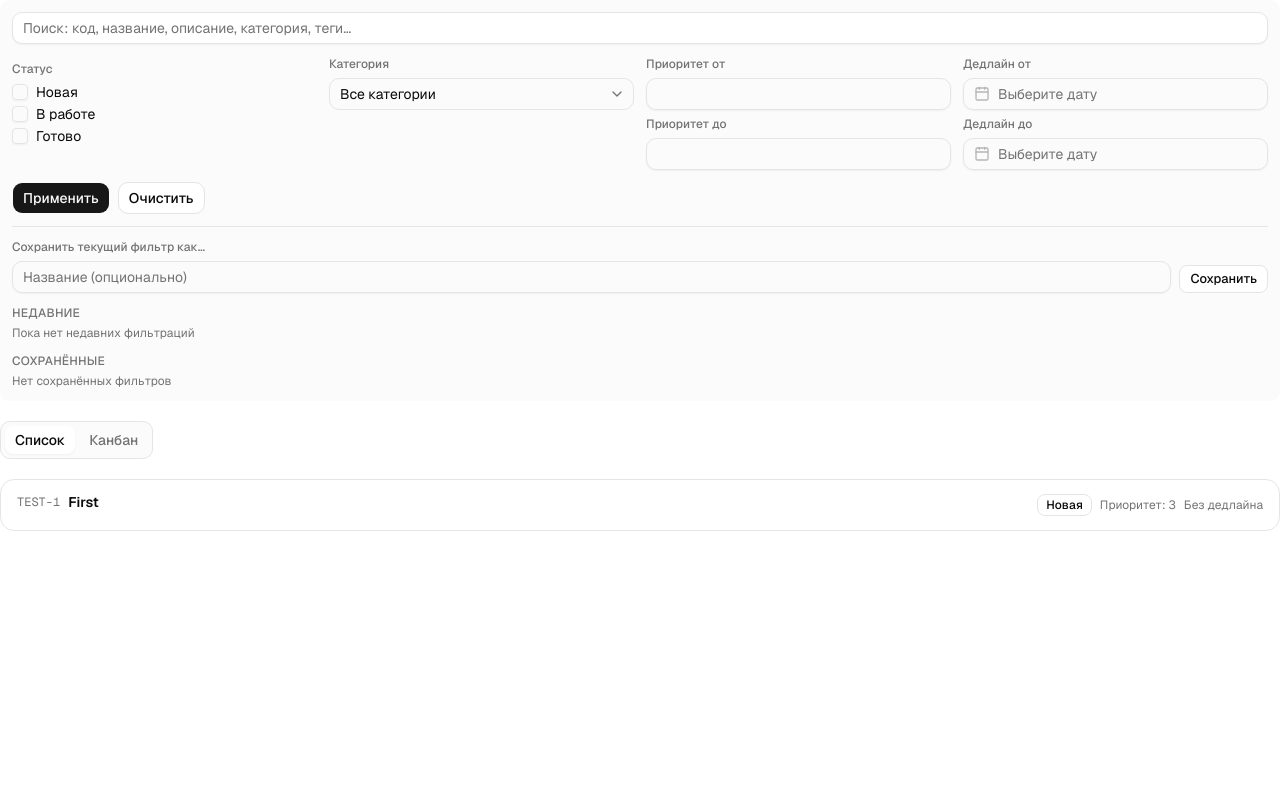
TaskList › closes the task detail dialog when close is clicked
The image size is (1280, 800).
Click the button with test id "task-row".
click(39, 502)  # box [1,480,1279,530]
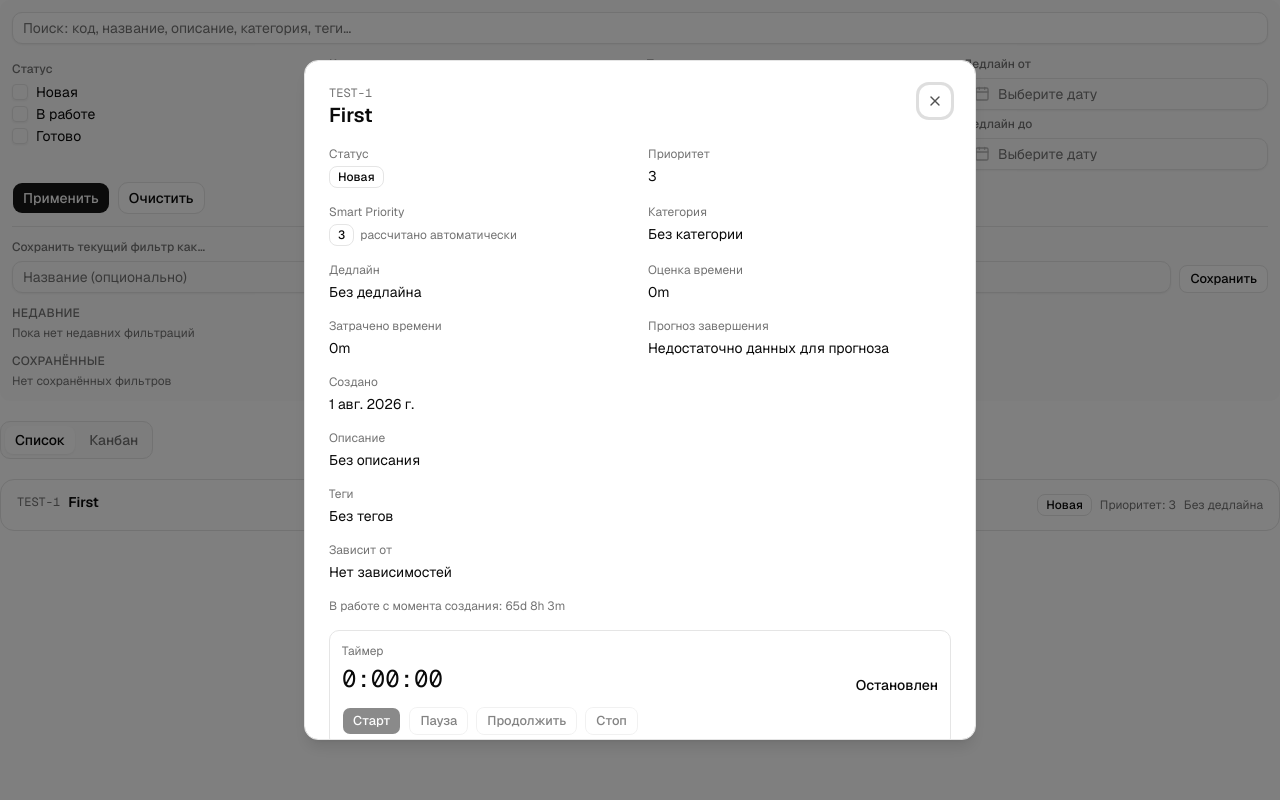
Check: the dialog is shown, box [304,60,976,740]
Click the button with test id "dialog-close".
click(935, 101)  # box [919,85,951,117]
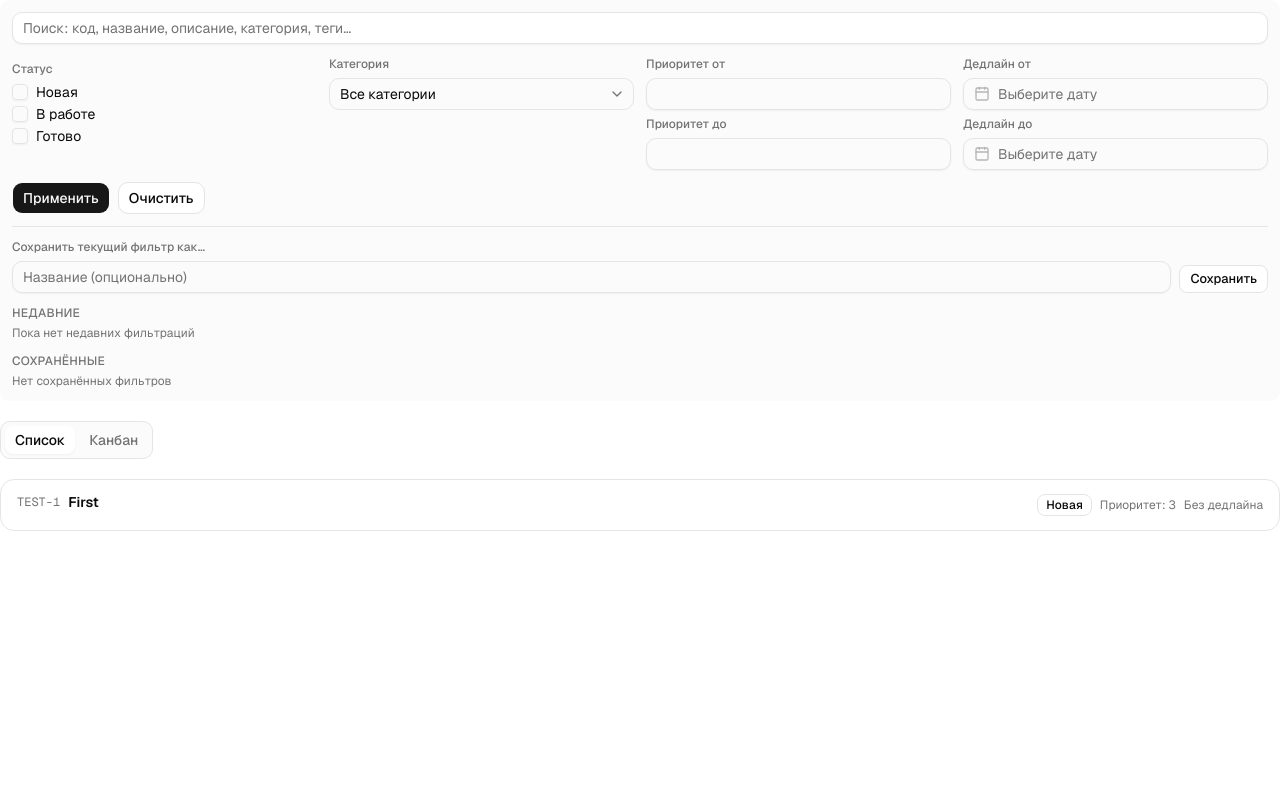
Check: the dialog is gone
